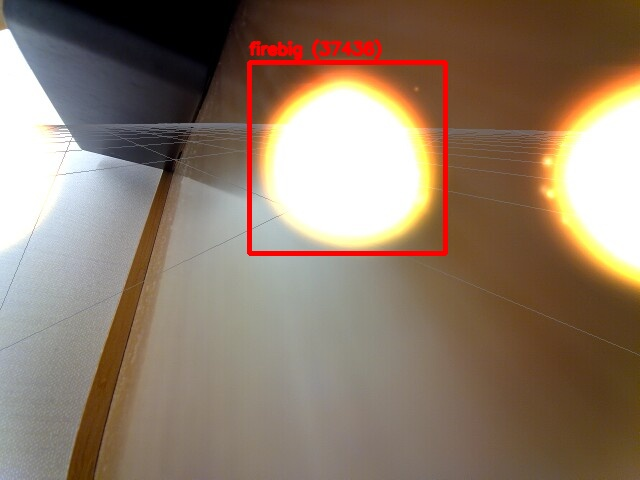firebig: (249, 62, 445, 253)
